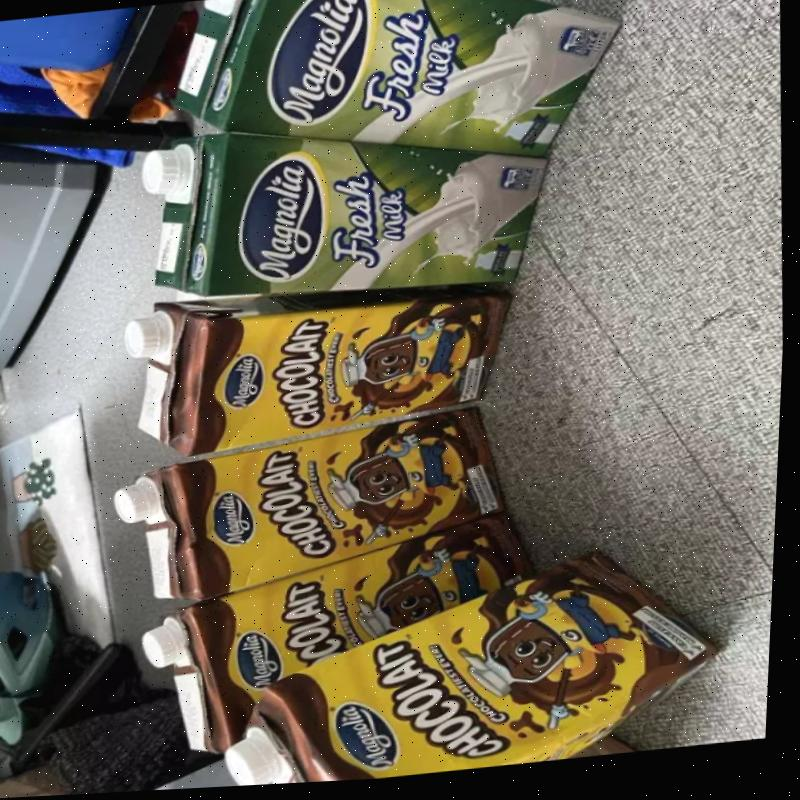uht carton: (225, 549, 721, 786), (142, 513, 526, 754), (114, 406, 507, 600), (174, 0, 624, 156), (125, 282, 513, 456), (144, 131, 551, 296)
